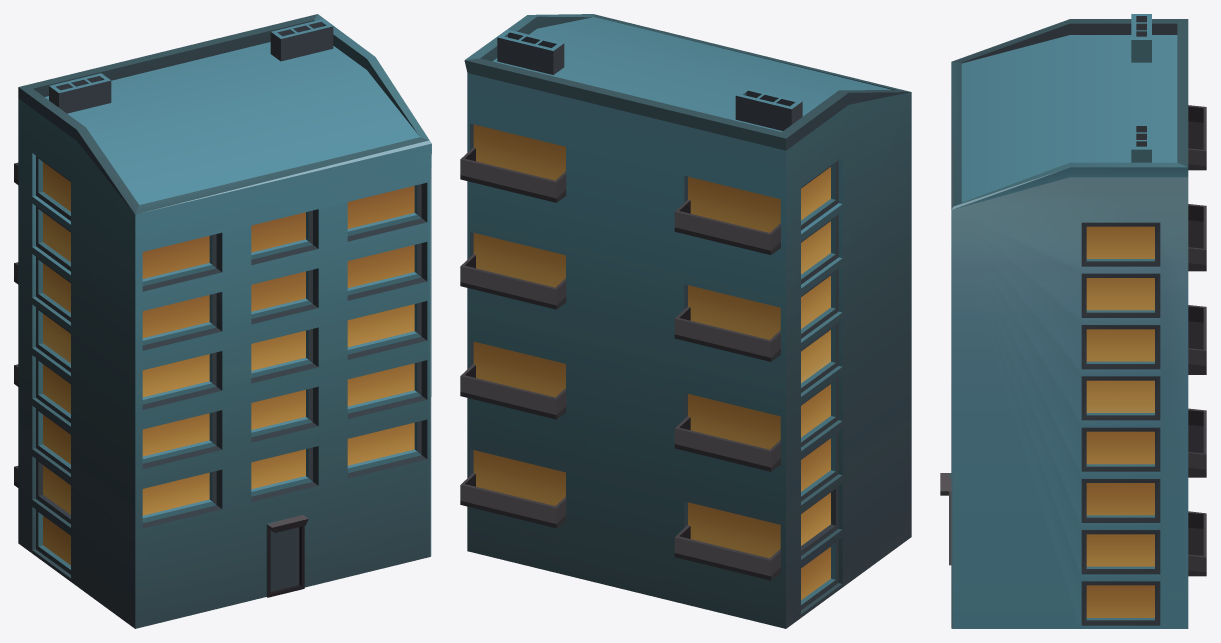
The model's file is SM_Building_16.fbx.
3 views of the same model, side by side, from view 1: azimuth 30°, elevation 25°; view 2: azimuth 150°, elevation 25°; view 3: azimuth 270°, elevation 25° (orthographic). The views are drawn at different scales.
Parts seen in each view (by area): view 1: SM_Building_16; view 2: SM_Building_16; view 3: SM_Building_16.
Part boxes in pixels (x1,y1,x2,y2): SM_Building_16: (14, 14, 431, 628); SM_Building_16: (460, 14, 911, 628); SM_Building_16: (940, 14, 1206, 628).
Bounding box in the file's own units: 779 × 1163 × 592.
